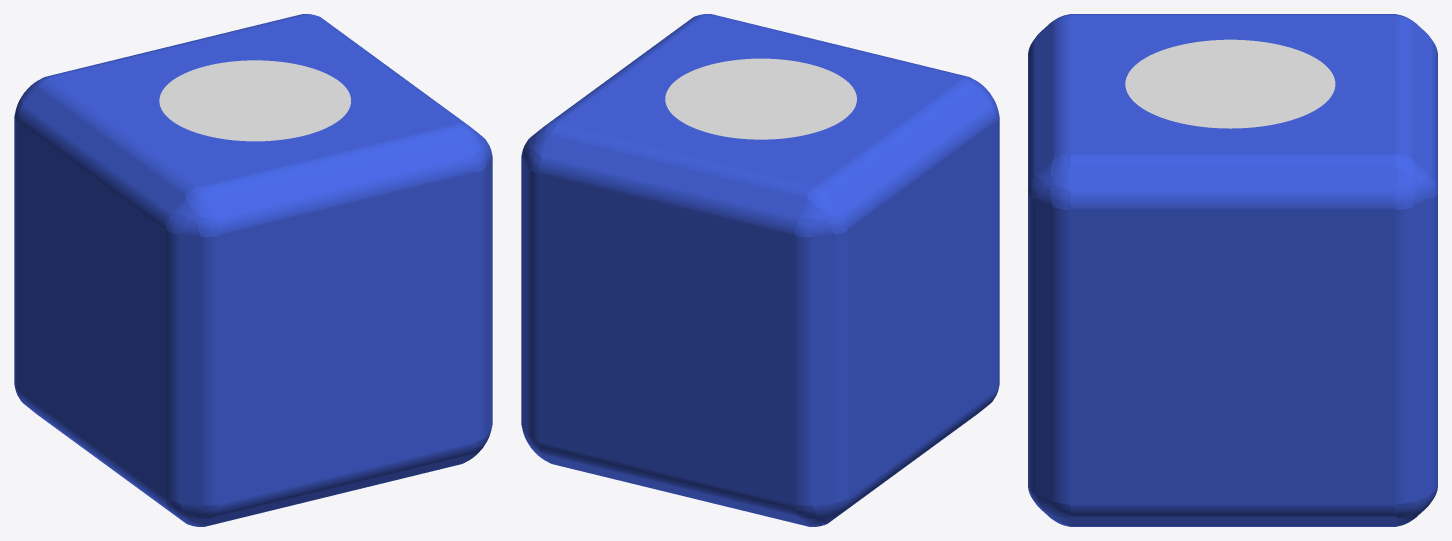
Rendered from CubeWithCircle(15).fbx.
3 views of the same model, side by side, from view 1: azimuth 30°, elevation 25°; view 2: azimuth 150°, elevation 25°; view 3: azimuth 270°, elevation 25° (orthographic). The views are drawn at different scales.
Visible parts, largest first — view 1: Circle..002; view 2: Circle..002; view 3: Circle..002.
Part boxes in pixels (x1=…): Circle..002: x1=14, y1=14, x2=492, y2=526; Circle..002: x1=521, y1=14, x2=999, y2=526; Circle..002: x1=1028, y1=14, x2=1437, y2=526.
Bounding box in the file's own units: 200 × 200 × 200.
